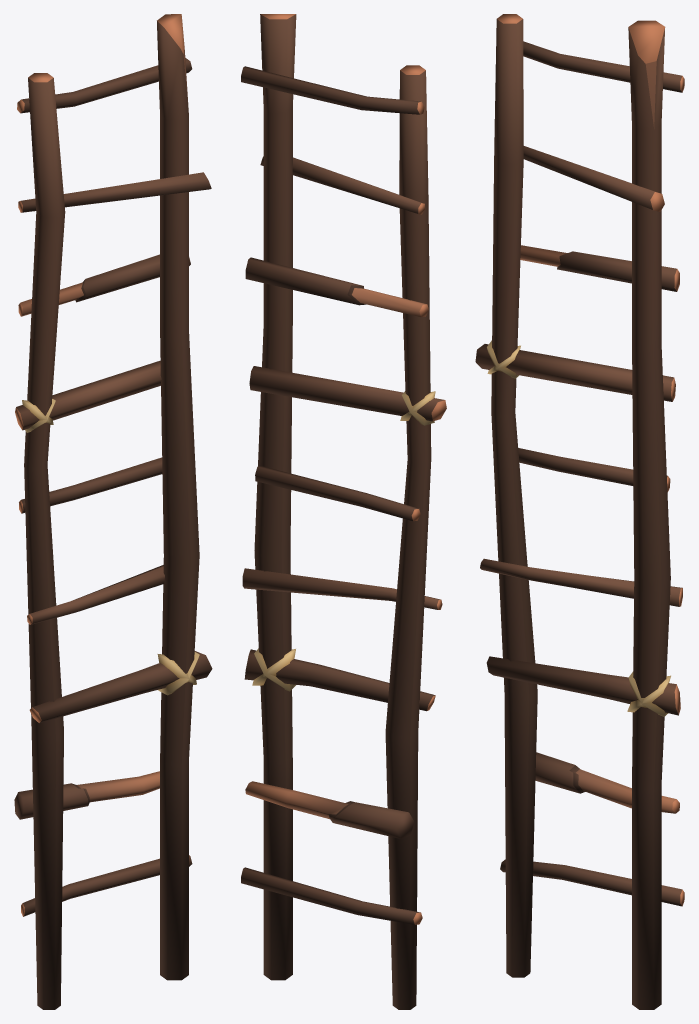
Rendered from Ladder_1A.fbx.
3 views of the same model, side by side, from view 1: azimuth 30°, elevation 25°; view 2: azimuth 150°, elevation 25°; view 3: azimuth 330°, elevation 25° (orthographic). The views are drawn at different scales.
Visible parts, largest first — view 1: Ladder_1A; view 2: Ladder_1A; view 3: Ladder_1A.
Part boxes in pixels (x1,y1,x2,y2): Ladder_1A: (14,14,212,1009); Ladder_1A: (241,14,446,1009); Ladder_1A: (475,14,684,1009).
Bounding box in the file's own units: 0.8668 × 4.09 × 0.2883.
